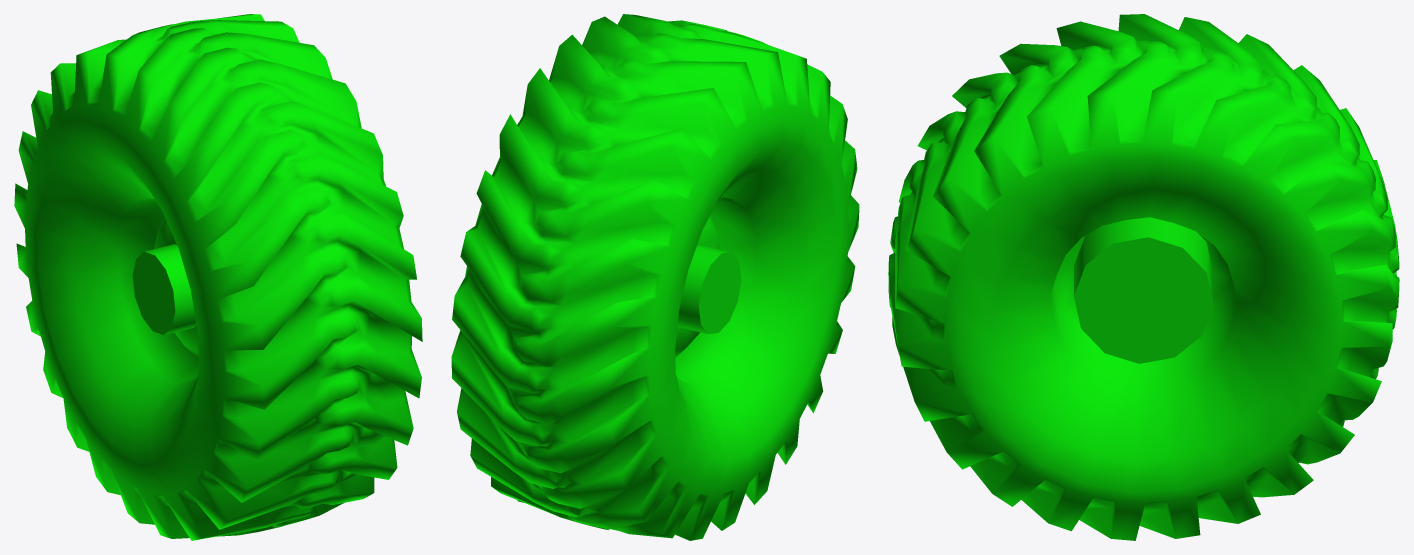
File: ExcavatorMachine_Tyre_01a_snaps005.fbx
3 renders of one model, left to right at view 1: azimuth 30°, elevation 25°; view 2: azimuth 150°, elevation 25°; view 3: azimuth 270°, elevation 25°, orthographic.
Parts seen in each view (by area): view 1: ExcavatorMachine_Tyre_01a_snaps005; view 2: ExcavatorMachine_Tyre_01a_snaps005; view 3: ExcavatorMachine_Tyre_01a_snaps005.
Boxes of the visible parts, <box> form: ExcavatorMachine_Tyre_01a_snaps005: <box>14,14,422,540</box>; ExcavatorMachine_Tyre_01a_snaps005: <box>451,14,859,540</box>; ExcavatorMachine_Tyre_01a_snaps005: <box>888,14,1399,540</box>.
Size of the model in its own units: 38.34 by 86.22 by 86.22.
